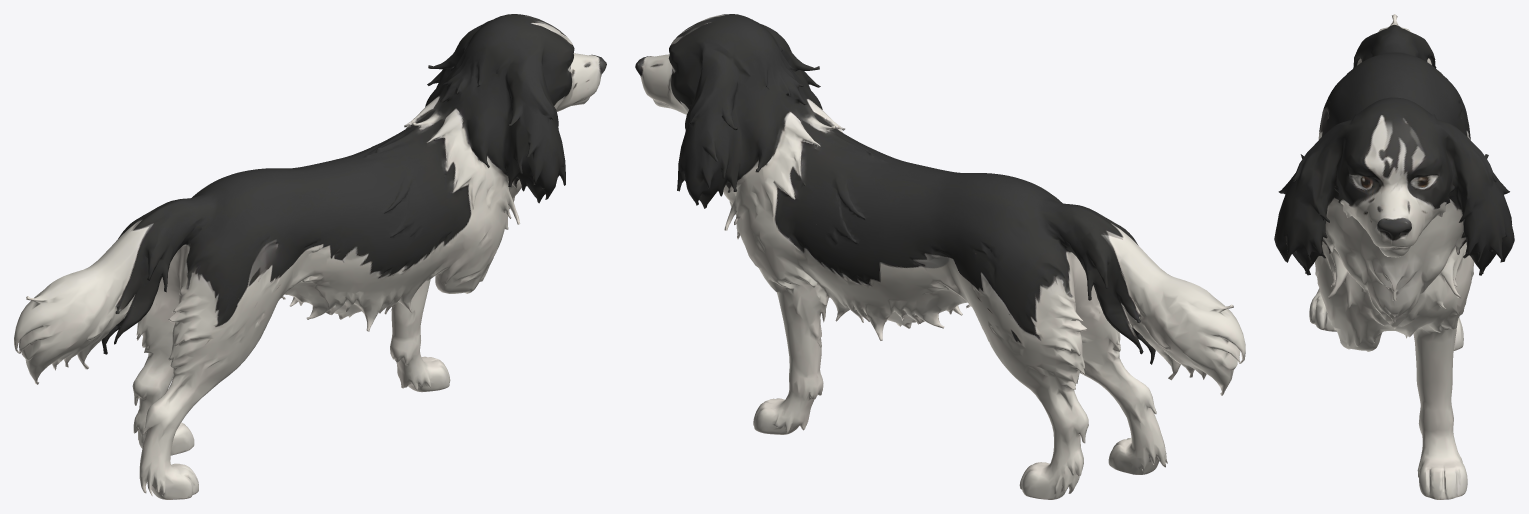
File: smith.glb
The picture shows the model from 3 angles, left to right: view 1: azimuth 30°, elevation 25°; view 2: azimuth 150°, elevation 25°; view 3: azimuth 270°, elevation 25°; orthographic projection. The views are drawn at different scales.
Parts seen in each view (by area): view 1: tripo_node_cf0a0c48-bbe6-454f-a9c1-7277f6b14906; view 2: tripo_node_cf0a0c48-bbe6-454f-a9c1-7277f6b14906; view 3: tripo_node_cf0a0c48-bbe6-454f-a9c1-7277f6b14906.
Part boxes in pixels (box(x1,y1,x2,y2)): tripo_node_cf0a0c48-bbe6-454f-a9c1-7277f6b14906: box(14, 14, 606, 499); tripo_node_cf0a0c48-bbe6-454f-a9c1-7277f6b14906: box(635, 14, 1245, 499); tripo_node_cf0a0c48-bbe6-454f-a9c1-7277f6b14906: box(1274, 14, 1514, 499).
Size of the model in its own units: 0.9994 by 0.5919 by 0.3062.
1 material, 1 textured.
